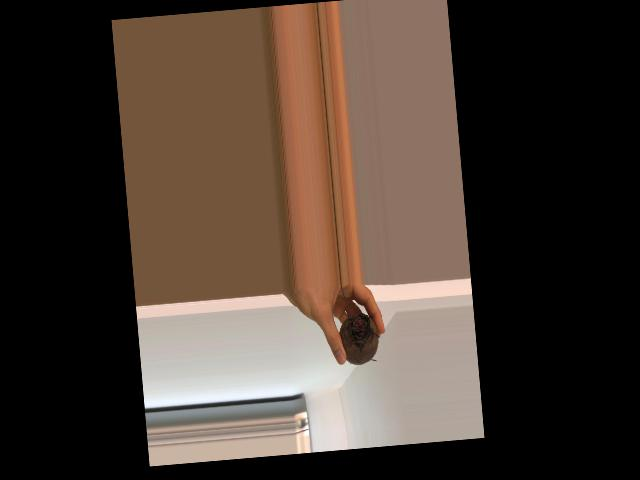beet: (334, 282, 382, 367)
